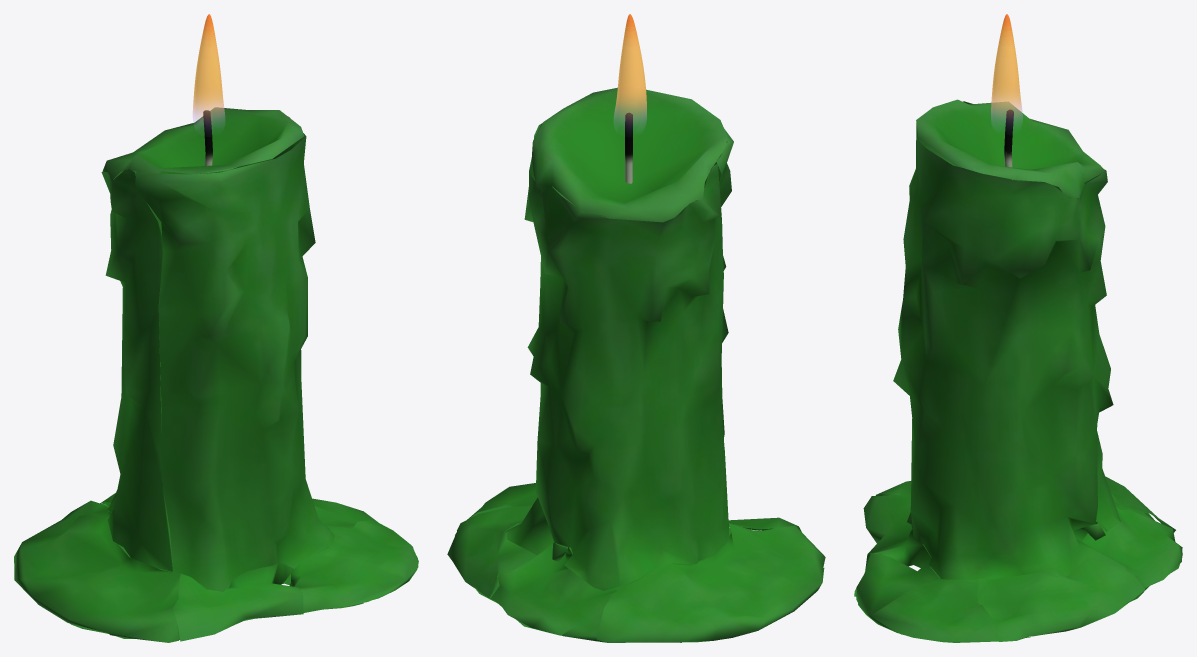
File: EcclesiasticalMedium.glb
The picture shows the model from 3 angles, left to right: view 1: azimuth 30°, elevation 25°; view 2: azimuth 150°, elevation 25°; view 3: azimuth 270°, elevation 25°; orthographic projection.
Parts seen in each view (by area): view 1: XBase, Flame; view 2: XBase, Flame, XRope01; view 3: XBase, Flame, XRope01.
Part boxes in pixels (x1,y1,x2,y2): XBase: (14, 107, 418, 642); Flame: (192, 14, 224, 127); XBase: (447, 87, 825, 642); Flame: (614, 14, 646, 128); XRope01: (625, 112, 632, 183); XBase: (854, 99, 1182, 642); Flame: (991, 14, 1022, 126); XRope01: (1004, 109, 1013, 179).
Size of the model in its own units: 1.4 by 2.16 by 1.18.
2 materials, 2 textured.
